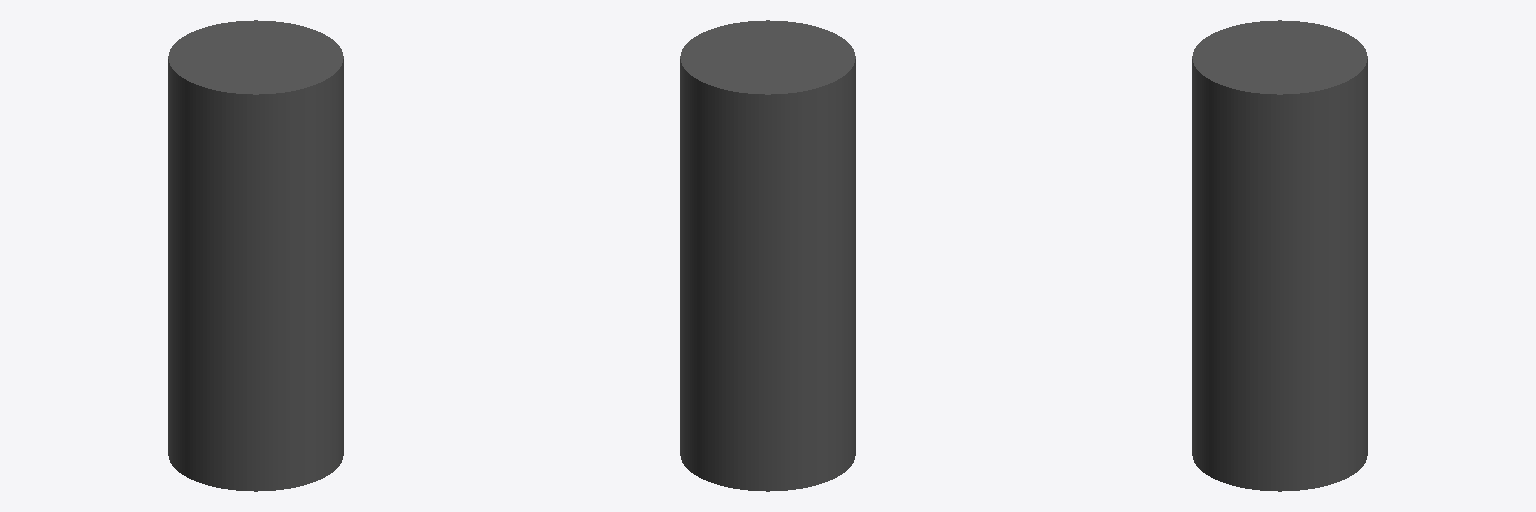
The robot description file, URDF, robot "iiwa14":
<?xml version="1.0" encoding="utf-8"?>
<!-- =================================================================================== -->
<!-- |    This document was autogenerated by xacro from src/iiwa_description/urdf/iiwa14.urdf.xacro | -->
<!-- |    EDITING THIS FILE BY HAND IS NOT RECOMMENDED                                 | -->
<!-- =================================================================================== -->
<robot name="iiwa14">
  <material name="Black">
    <color rgba="0.0 0.0 0.0 1.0"/>
  </material>
  <material name="Blue">
    <color rgba="0.0 0.0 0.8 1.0"/>
  </material>
  <material name="Green">
    <color rgba="0.0 0.8 0.0 1.0"/>
  </material>
  <material name="Grey">
    <color rgba="0.4 0.4 0.4 1.0"/>
  </material>
  <material name="Orange">
    <color rgba="1.0 0.423529411765 0.0392156862745 1.0"/>
  </material>
  <material name="Brown">
    <color rgba="0.870588235294 0.811764705882 0.764705882353 1.0"/>
  </material>
  <material name="Red">
    <color rgba="0.8 0.0 0.0 1.0"/>
  </material>
  <material name="White">
    <color rgba="1.0 1.0 1.0 1.0"/>
  </material>
  <!-- Fix to world just for testing -->
  <link name="world"/>
  <!--joint between {parent} and link_0-->
  <joint name="world_iiwa_joint" type="fixed">
    <origin rpy="0 0 0" xyz="0 0 0"/>
    <parent link="world"/>
    <child link="iiwa_link_0"/>
  </joint>
  <link name="iiwa_link_0">
    <inertial>
      <origin rpy="0 0 0" xyz="-0.1 0 0.07"/>
      <mass value="5"/>
      <inertia ixx="0.05" ixy="0" ixz="0" iyy="0.06" iyz="0" izz="0.03"/>
    </inertial>
    <visual>
      <origin rpy="0 0 0" xyz="0 0 0"/>
      <geometry>
        <mesh filename="package://iiwa_description/meshes/iiwa14/visual/link_0.stl"/>
      </geometry>
      <material name="Grey"/>
    </visual>
    <collision>
      <origin rpy="0 0 0" xyz="0 0 0"/>
      <geometry>
        <mesh filename="package://iiwa_description/meshes/iiwa14/collision/link_0.stl"/>
      </geometry>
      <material name="Grey"/>
    </collision>
    <self_collision_checking>
      <origin rpy="0 0 0" xyz="0 0 0"/>
      <geometry>
        <capsule length="0.25" radius="0.15"/>
      </geometry>
    </self_collision_checking>
  </link>
  <!-- joint between link_0 and link_1 -->
  <joint name="iiwa_joint_1" type="revolute">
    <parent link="iiwa_link_0"/>
    <child link="iiwa_link_1"/>
    <origin rpy="0 0 0" xyz="0 0 0.1575"/>
    <axis xyz="0 0 1"/>
    <limit effort="300" lower="-2.96705972839" upper="2.96705972839" velocity="10"/>
    <safety_controller k_position="100" k_velocity="2" soft_lower_limit="-2.93215314335" soft_upper_limit="2.93215314335"/>
    <dynamics damping="0.5"/>
  </joint>
  <link name="iiwa_link_1">
    <inertial>
      <origin rpy="0 0 0" xyz="0 -0.03 0.12"/>
      <mass value="4"/>
      <inertia ixx="0.1" ixy="0" ixz="0" iyy="0.09" iyz="0" izz="0.02"/>
    </inertial>
    <visual>
      <origin rpy="0 0 0" xyz="0 0 0"/>
      <geometry>
        <mesh filename="package://iiwa_description/meshes/iiwa14/visual/link_1.stl"/>
      </geometry>
      <material name="Orange"/>
    </visual>
    <collision>
      <origin rpy="0 0 0" xyz="0 0 0"/>
      <geometry>
        <mesh filename="package://iiwa_description/meshes/iiwa14/collision/link_1.stl"/>
      </geometry>
      <material name="Orange"/>
    </collision>
  </link>
  <!-- joint between link_1 and link_2 -->
  <joint name="iiwa_joint_2" type="revolute">
    <parent link="iiwa_link_1"/>
    <child link="iiwa_link_2"/>
    <origin rpy="1.57079632679   0 3.14159265359" xyz="0 0 0.2025"/>
    <axis xyz="0 0 1"/>
    <limit effort="300" lower="-2.09439510239" upper="2.09439510239" velocity="10"/>
    <safety_controller k_position="100" k_velocity="2" soft_lower_limit="-2.05948851735" soft_upper_limit="2.05948851735"/>
    <dynamics damping="0.5"/>
  </joint>
  <link name="iiwa_link_2">
    <inertial>
      <origin rpy="0 0 0" xyz="0.0003 0.059 0.042"/>
      <mass value="4"/>
      <inertia ixx="0.05" ixy="0" ixz="0" iyy="0.018" iyz="0" izz="0.044"/>
    </inertial>
    <visual>
      <origin rpy="0 0 0" xyz="0 0 0"/>
      <geometry>
        <mesh filename="package://iiwa_description/meshes/iiwa14/visual/link_2.stl"/>
      </geometry>
      <material name="Orange"/>
    </visual>
    <collision>
      <origin rpy="0 0 0" xyz="0 0 0"/>
      <geometry>
        <mesh filename="package://iiwa_description/meshes/iiwa14/collision/link_2.stl"/>
      </geometry>
      <material name="Orange"/>
    </collision>
  </link>
  <!-- joint between link_2 and link_3 -->
  <joint name="iiwa_joint_3" type="revolute">
    <parent link="iiwa_link_2"/>
    <child link="iiwa_link_3"/>
    <origin rpy="1.57079632679 0 3.14159265359" xyz="0 0.2045 0"/>
    <axis xyz="0 0 1"/>
    <limit effort="300" lower="-2.96705972839" upper="2.96705972839" velocity="10"/>
    <safety_controller k_position="100" k_velocity="2" soft_lower_limit="-2.93215314335" soft_upper_limit="2.93215314335"/>
    <dynamics damping="0.5"/>
  </joint>
  <link name="iiwa_link_3">
    <inertial>
      <origin rpy="0 0 0" xyz="0 0.03 0.13"/>
      <mass value="3"/>
      <inertia ixx="0.08" ixy="0" ixz="0" iyy="0.075" iyz="0" izz="0.01"/>
    </inertial>
    <visual>
      <origin rpy="0 0 0" xyz="0 0 0"/>
      <geometry>
        <mesh filename="package://iiwa_description/meshes/iiwa14/visual/link_3.stl"/>
      </geometry>
      <material name="Orange"/>
    </visual>
    <collision>
      <origin rpy="0 0 0" xyz="0 0 0"/>
      <geometry>
        <mesh filename="package://iiwa_description/meshes/iiwa14/collision/link_3.stl"/>
      </geometry>
      <material name="Orange"/>
    </collision>
  </link>
  <!-- joint between link_3 and link_4 -->
  <joint name="iiwa_joint_4" type="revolute">
    <parent link="iiwa_link_3"/>
    <child link="iiwa_link_4"/>
    <origin rpy="1.57079632679 0 0" xyz="0 0 0.2155"/>
    <axis xyz="0 0 1"/>
    <limit effort="300" lower="-2.09439510239" upper="2.09439510239" velocity="10"/>
    <safety_controller k_position="100" k_velocity="2" soft_lower_limit="-2.05948851735" soft_upper_limit="2.05948851735"/>
    <dynamics damping="0.5"/>
  </joint>
  <link name="iiwa_link_4">
    <inertial>
      <origin rpy="0 0 0" xyz="0 0.067 0.034"/>
      <mass value="2.7"/>
      <inertia ixx="0.03" ixy="0" ixz="0" iyy="0.01" iyz="0" izz="0.029"/>
    </inertial>
    <visual>
      <origin rpy="0 0 0" xyz="0 0 0"/>
      <geometry>
        <mesh filename="package://iiwa_description/meshes/iiwa14/visual/link_4.stl"/>
      </geometry>
      <material name="Orange"/>
    </visual>
    <collision>
      <origin rpy="0 0 0" xyz="0 0 0"/>
      <geometry>
        <mesh filename="package://iiwa_description/meshes/iiwa14/collision/link_4.stl"/>
      </geometry>
      <material name="Orange"/>
    </collision>
  </link>
  <!-- joint between link_4 and link_5 -->
  <joint name="iiwa_joint_5" type="revolute">
    <parent link="iiwa_link_4"/>
    <child link="iiwa_link_5"/>
    <origin rpy="-1.57079632679 3.14159265359 0" xyz="0 0.1845 0"/>
    <axis xyz="0 0 1"/>
    <limit effort="300" lower="-2.96705972839" upper="2.96705972839" velocity="10"/>
    <safety_controller k_position="100" k_velocity="2" soft_lower_limit="-2.93215314335" soft_upper_limit="2.93215314335"/>
    <dynamics damping="0.5"/>
  </joint>
  <link name="iiwa_link_5">
    <inertial>
      <origin rpy="0 0 0" xyz="0.0001 0.021 0.076"/>
      <mass value="1.7"/>
      <inertia ixx="0.02" ixy="0" ixz="0" iyy="0.018" iyz="0" izz="0.005"/>
    </inertial>
    <visual>
      <origin rpy="0 0 0" xyz="0 0 0"/>
      <geometry>
        <mesh filename="package://iiwa_description/meshes/iiwa14/visual/link_5.stl"/>
      </geometry>
      <material name="Orange"/>
    </visual>
    <collision>
      <origin rpy="0 0 0" xyz="0 0 0"/>
      <geometry>
        <mesh filename="package://iiwa_description/meshes/iiwa14/collision/link_5.stl"/>
      </geometry>
      <material name="Orange"/>
    </collision>
  </link>
  <!-- joint between link_5 and link_6 -->
  <joint name="iiwa_joint_6" type="revolute">
    <parent link="iiwa_link_5"/>
    <child link="iiwa_link_6"/>
    <origin rpy="1.57079632679 0 0" xyz="0 0 0.2155"/>
    <axis xyz="0 0 1"/>
    <limit effort="300" lower="-2.09439510239" upper="2.09439510239" velocity="10"/>
    <safety_controller k_position="100" k_velocity="2" soft_lower_limit="-2.05948851735" soft_upper_limit="2.05948851735"/>
    <dynamics damping="0.5"/>
  </joint>
  <link name="iiwa_link_6">
    <inertial>
      <origin rpy="0 0 0" xyz="0 0.0006 0.0004"/>
      <mass value="1.8"/>
      <inertia ixx="0.005" ixy="0" ixz="0" iyy="0.0036" iyz="0" izz="0.0047"/>
    </inertial>
    <visual>
      <origin rpy="0 0 0" xyz="0 0 0"/>
      <geometry>
        <mesh filename="package://iiwa_description/meshes/iiwa14/visual/link_6.stl"/>
      </geometry>
      <material name="Orange"/>
    </visual>
    <collision>
      <origin rpy="0 0 0" xyz="0 0 0"/>
      <geometry>
        <mesh filename="package://iiwa_description/meshes/iiwa14/collision/link_6.stl"/>
      </geometry>
      <material name="Orange"/>
    </collision>
  </link>
  <!-- joint between link_6 and link_7 -->
  <joint name="iiwa_joint_7" type="revolute">
    <parent link="iiwa_link_6"/>
    <child link="iiwa_link_7"/>
    <origin rpy="-1.57079632679 3.14159265359 0" xyz="0 0.081 0"/>
    <axis xyz="0 0 1"/>
    <limit effort="300" lower="-3.05432619099" upper="3.05432619099" velocity="10"/>
    <safety_controller k_position="100" k_velocity="2" soft_lower_limit="-3.01941960595" soft_upper_limit="3.01941960595"/>
    <dynamics damping="0.5"/>
  </joint>
  <link name="iiwa_link_7">
    <inertial>
      <origin rpy="0 0 0" xyz="0 0 0.02"/>
      <mass value="0.3"/>
      <inertia ixx="0.001" ixy="0" ixz="0" iyy="0.001" iyz="0" izz="0.001"/>
    </inertial>
    <visual>
      <origin rpy="0 0 0" xyz="0 0 0"/>
      <geometry>
        <mesh filename="package://iiwa_description/meshes/iiwa14/visual/link_7.stl"/>
      </geometry>
      <material name="Grey"/>
    </visual>
    <collision>
      <origin rpy="0 0 0" xyz="0 0 0"/>
      <geometry>
        <mesh filename="package://iiwa_description/meshes/iiwa14/collision/link_7.stl"/>
      </geometry>
      <material name="Grey"/>
    </collision>
  </link>
  <joint name="iiwa_joint_ee" type="fixed">
    <parent link="iiwa_link_7"/>
    <child link="iiwa_link_ee"/>
    <origin rpy="0 0 0" xyz="0 0 0.045"/>
  </joint>
  <link name="iiwa_link_ee">
    </link>
    
  <joint name="object_joint" type="fixed">
        <origin rpy="0 0 0" xyz="0 0 0.001"/>
        <parent link="iiwa_link_ee"/>
        <child link="object_link"/>
    </joint>
  
    <link name="object_link">
        <visual>
            <origin rpy="0 0 0" xyz="0 0 0"/>
            <geometry>
                <mesh filename="package://iiwa_description/meshes/cylindrical_peg_300.stl" scale="0.001 0.001 0.001"/>
            </geometry>
            <material name="Grey"/>
        </visual>
        <collision>
            <origin rpy="0 0 0" xyz="0 0 0"/>
            <geometry>
                <mesh filename="package://iiwa_description/meshes/cylindrical_peg_300.stl" scale="0.001 0.001 0.001"/>
            </geometry>
            <material name="Grey"/>
        </collision>
    </link>

</robot>

--- What the picture shows (computed from the rendered views, not written in the file) ---
Views: 3 orthographic renders of the robot side by side, from view 1: azimuth 30°, elevation 25°; view 2: azimuth 150°, elevation 25°; view 3: azimuth 270°, elevation 25°.
Robot: iiwa14 — 11 links, 10 joints (7 revolute, 3 fixed); root link world; default pose: all joints at 0.
Visible links, largest first — view 1: object_link; view 2: object_link; view 3: object_link.
Boxes of the visible links, x1=… form: object_link: x1=168, y1=20, x2=343, y2=491; object_link: x1=680, y1=20, x2=855, y2=491; object_link: x1=1192, y1=20, x2=1367, y2=491.
Bounding box of the posed robot: 0.06 × 0.06 × 0.15 m (x, y, z).
Meshes: 9 distinct files referenced, 1 mesh visuals loaded (1 binary STL); not drawn: 8 (reference not matched to a file when rendering).